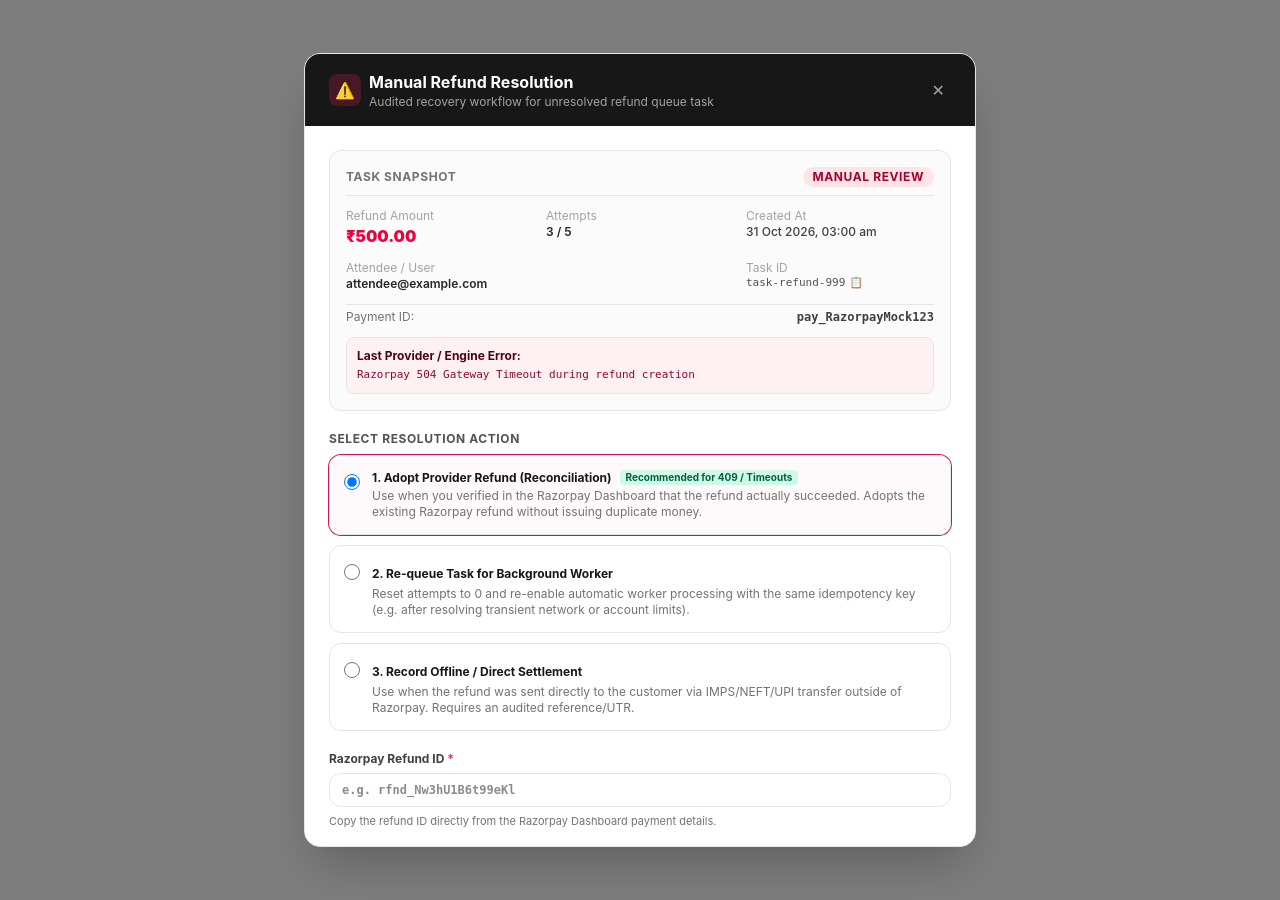
it: RefundManualReviewModal (Financial Recovery & Invariants) › handles server RPC failure properly
Step 1. Type "rfnd_Duplicate789" into the field with placeholder "e.g. rfnd_Nw3hU1B6t99eKl" → (640,790), box [329,773,951,807]
(page scrolled)
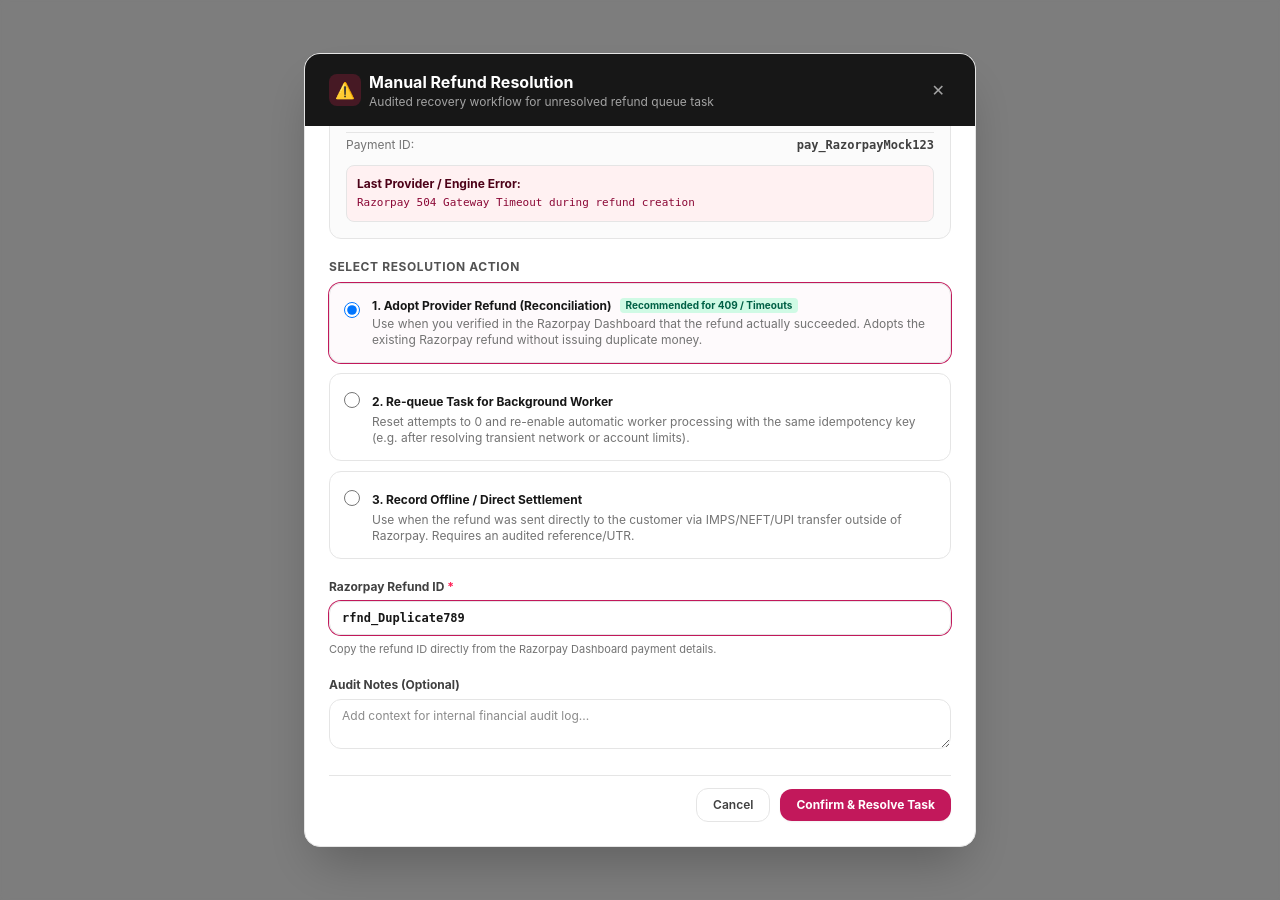
Step 2. Click the button "Confirm & Resolve Task" → (866,805), box [780,789,951,821]
(page scrolled)
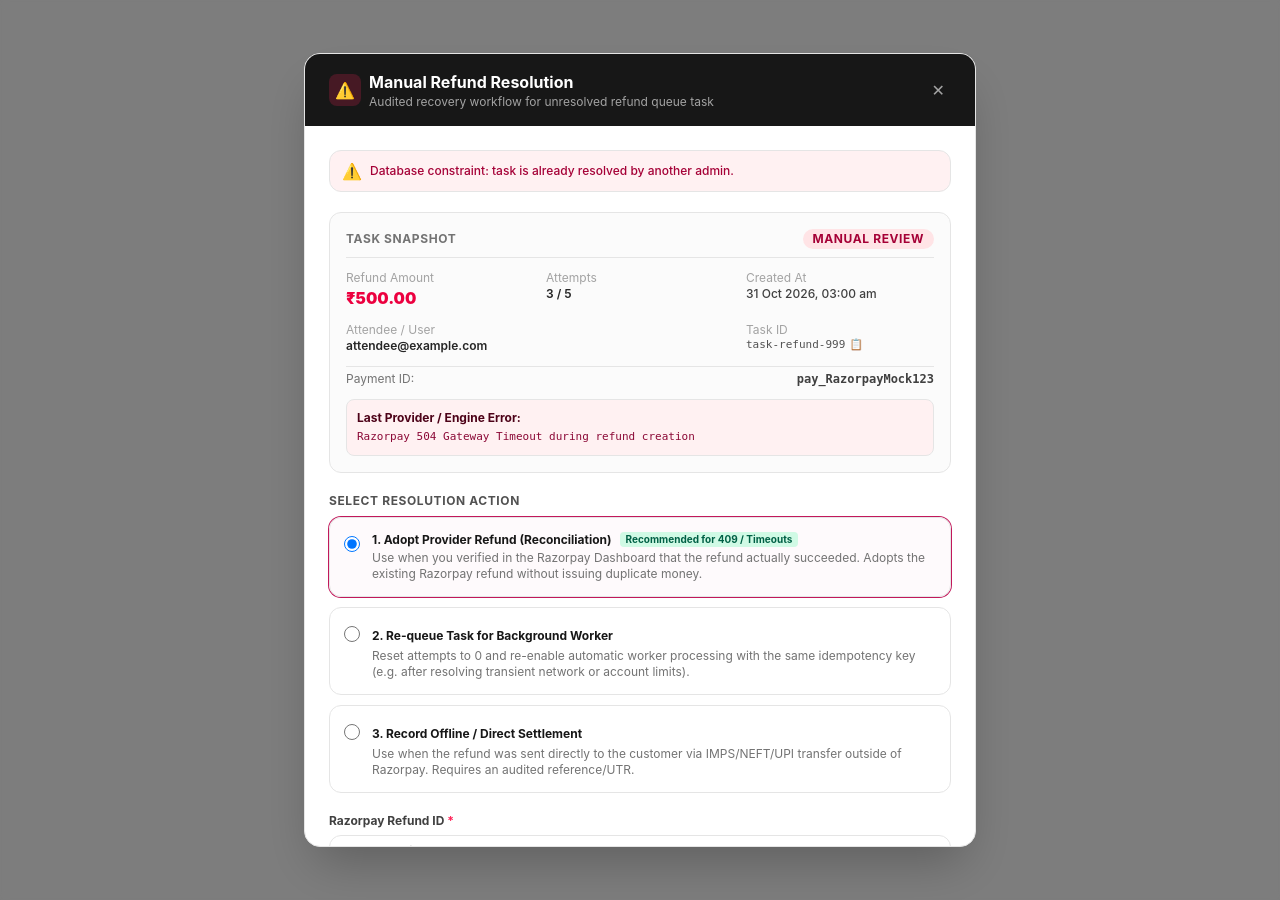
Now the text "task is already resolved by another admin" is shown, box [370,163,734,178]
